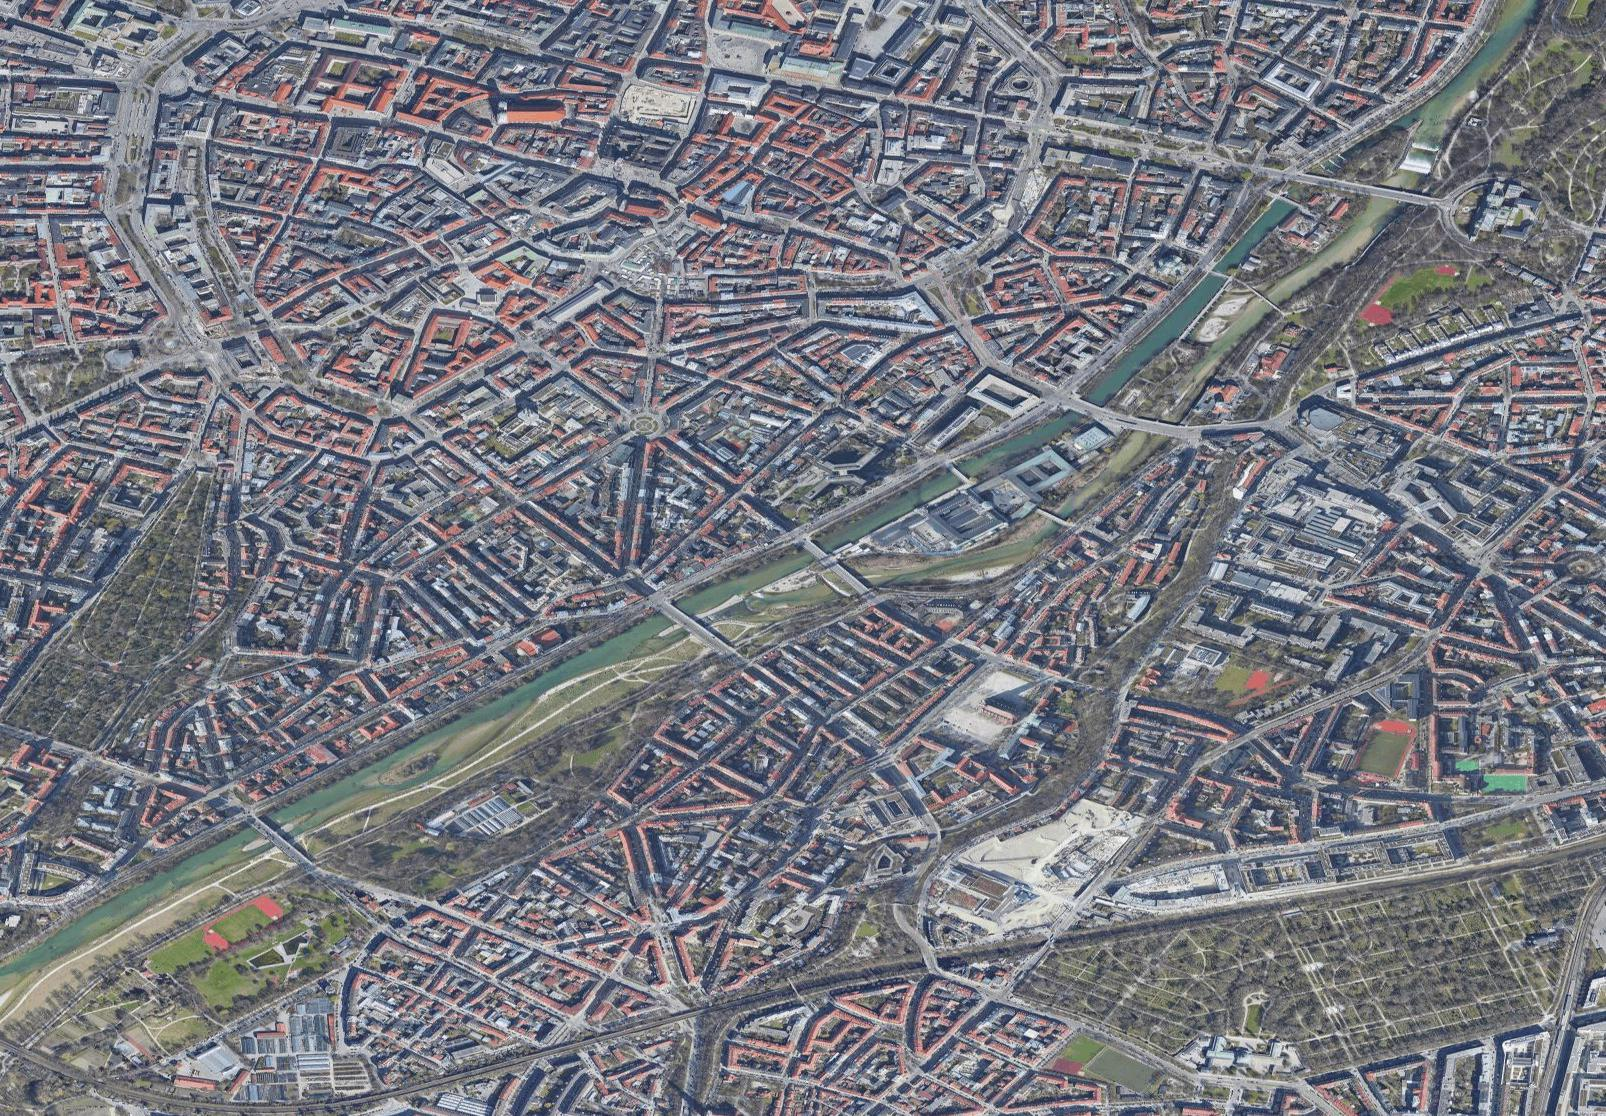bridge: (1285, 162, 1428, 204), (233, 814, 319, 872), (650, 590, 735, 647), (790, 527, 841, 569), (1054, 391, 1114, 422), (1204, 264, 1234, 282), (1277, 194, 1305, 212)
